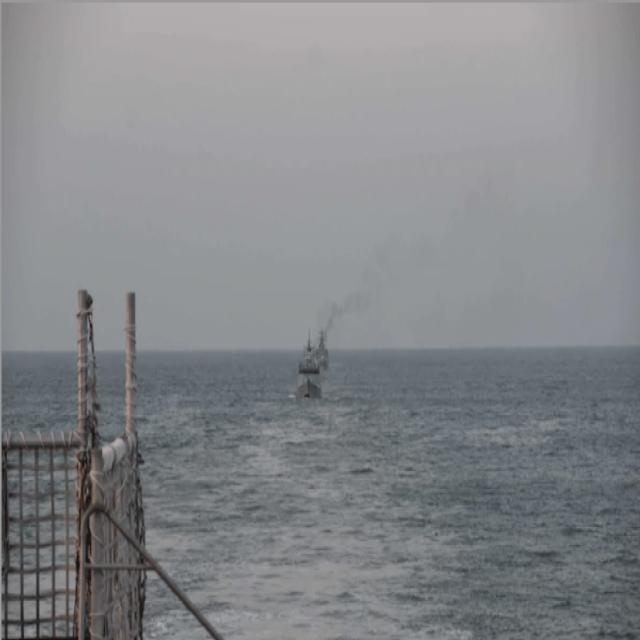navalvessels: (294, 324, 324, 406), (314, 323, 332, 372)
